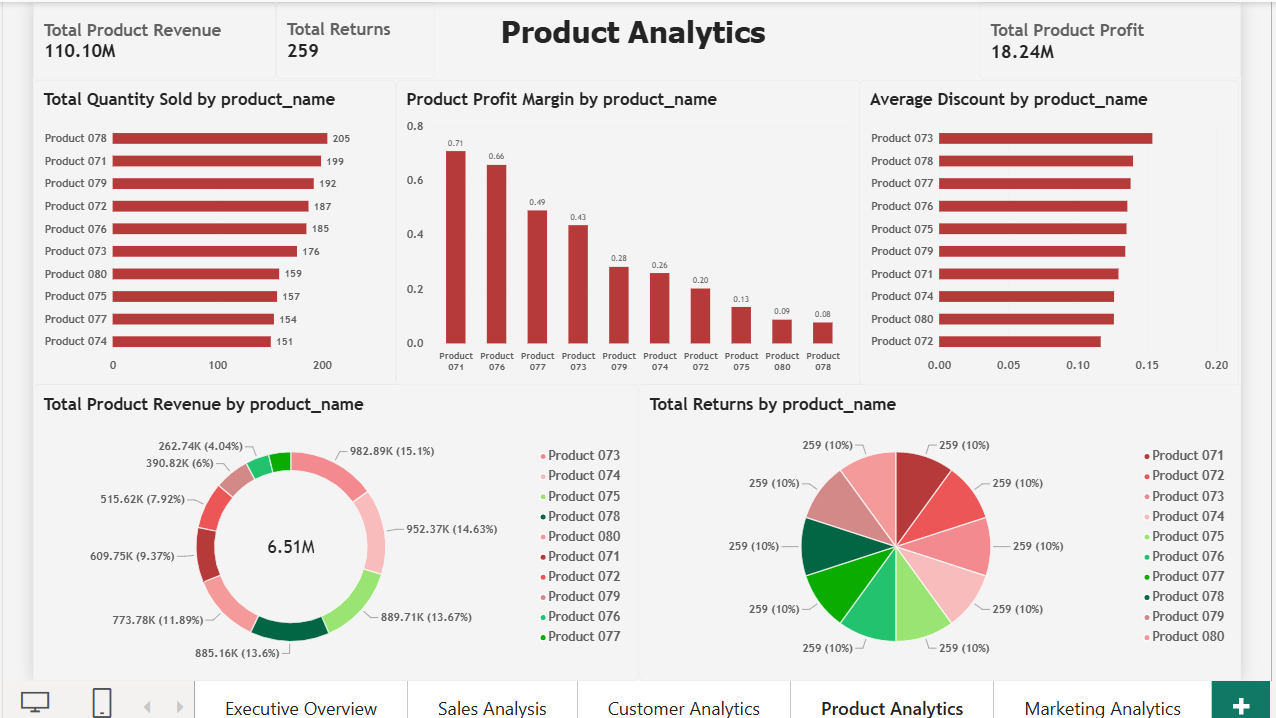

The page's visual inventory and layout, read from the dashboard file:
{"tool":"powerbi","page":{"name":"Product Analytics","canvas":[1920,1080],"ordinal":3},"visuals":[{"type":"clusteredBarChart","fields":{"Category":["products_cleaned.product_name"],"Y":["customer_analysis.Total Quantity Sold"]},"box":[0,123.2,576.5,485.3],"z":0},{"type":"donutChart","fields":{"Category":["products_cleaned.product_name"],"Y":["customer_analysis.Total Product Revenue"]},"box":[0,609.3,961.1,471.1],"z":1000},{"type":"columnChart","fields":{"Y":["customer_analysis.Product Profit Margin"],"Category":["products_cleaned.product_name"]},"box":[576.5,123.2,739.1,485.3],"z":2000},{"type":"pieChart","fields":{"Category":["products_cleaned.product_name"],"Y":["customer_analysis.Total Returns"]},"box":[961.1,609.3,957.9,471.1],"z":3000},{"type":"clusteredBarChart","fields":{"Category":["products_cleaned.product_name"],"Y":["customer_analysis.Average Discount"]},"box":[1315.6,123.2,603.6,485.3],"z":4000},{"type":"textbox","box":[640.6,0,630.7,123.2],"z":5000},{"type":"cardVisual","fields":{"Data":["customer_analysis.Total Product Revenue"]},"box":[0,0,386.8,123.2],"z":6000},{"type":"cardVisual","fields":{"Data":["customer_analysis.Total Product Profit"]},"box":[1505.3,0,416.4,123.2],"z":7000}]}

Visuals, with their boxes on the page's 1920x1080 design canvas (x1, y1, x2, y2). These are canvas units, not pixel positions in the 1276x718 screenshot, which may show the page scaled, cropped or inside an application window:
clusteredBarChart - products_cleaned.product_name x customer_analysis.Total Quantity Sold: [0, 123, 576, 608]
donutChart - products_cleaned.product_name x customer_analysis.Total Product Revenue: [0, 609, 961, 1080]
columnChart - customer_analysis.Product Profit Margin x products_cleaned.product_name: [576, 123, 1316, 608]
pieChart - products_cleaned.product_name x customer_analysis.Total Returns: [961, 609, 1919, 1080]
clusteredBarChart - products_cleaned.product_name x customer_analysis.Average Discount: [1316, 123, 1919, 608]
textbox: [641, 0, 1271, 123]
cardVisual - customer_analysis.Total Product Revenue: [0, 0, 387, 123]
cardVisual - customer_analysis.Total Product Profit: [1505, 0, 1922, 123]
